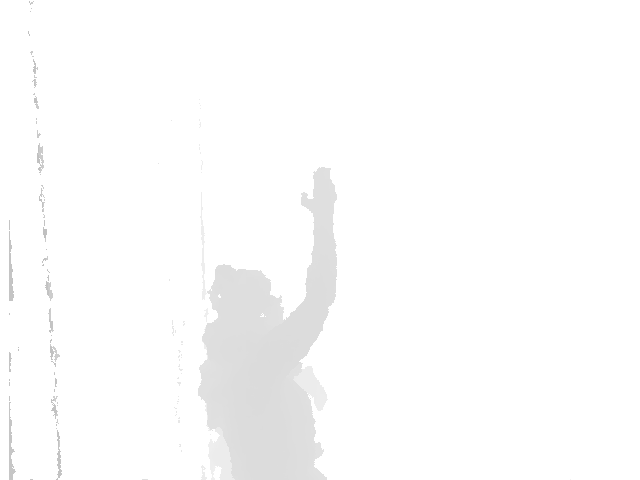hand: (299, 162, 341, 221)
head: (212, 264, 281, 327)
person: (200, 162, 341, 480)
